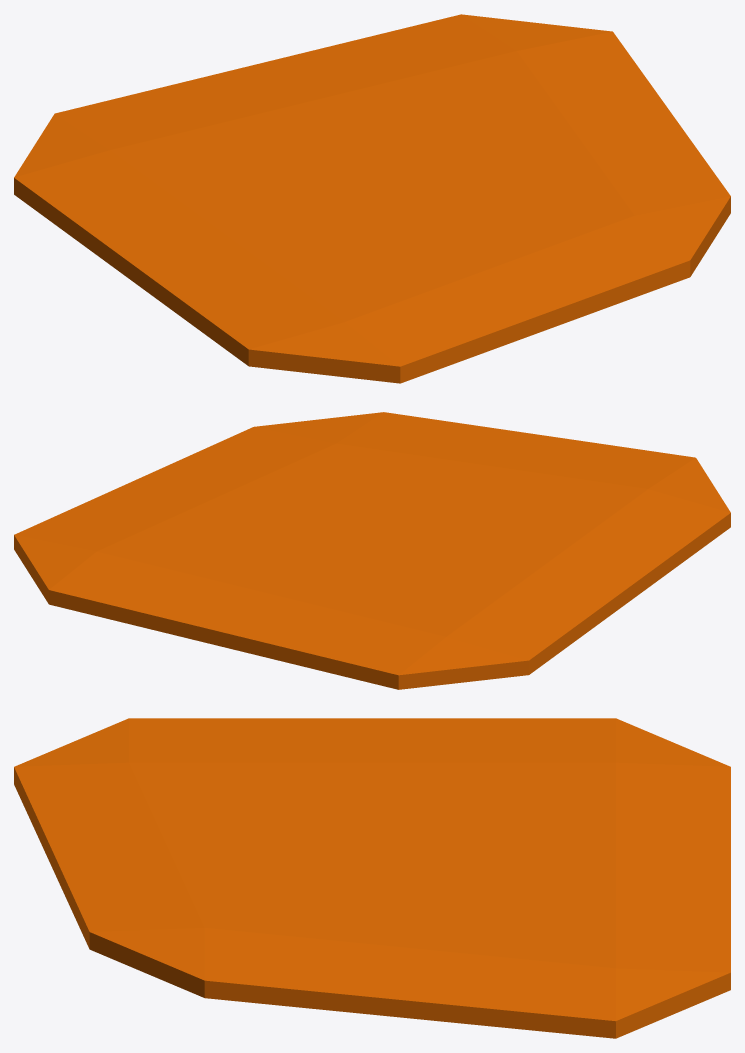
The model's file is Lava.fbx.
3 renders of one model, top to bottom at view 1: azimuth 30°, elevation 25°; view 2: azimuth 150°, elevation 25°; view 3: azimuth 270°, elevation 25°, orthographic. The views are drawn at different scales.
Parts seen in each view (by area): view 1: Cube; view 2: Cube; view 3: Cube.
Part boxes in pixels (box(x1,y1,x2,y2)): Cube: box(14, 14, 730, 383); Cube: box(14, 412, 730, 689); Cube: box(14, 718, 730, 1038).
Size of the model in its own units: 200 by 7.96 by 200.
